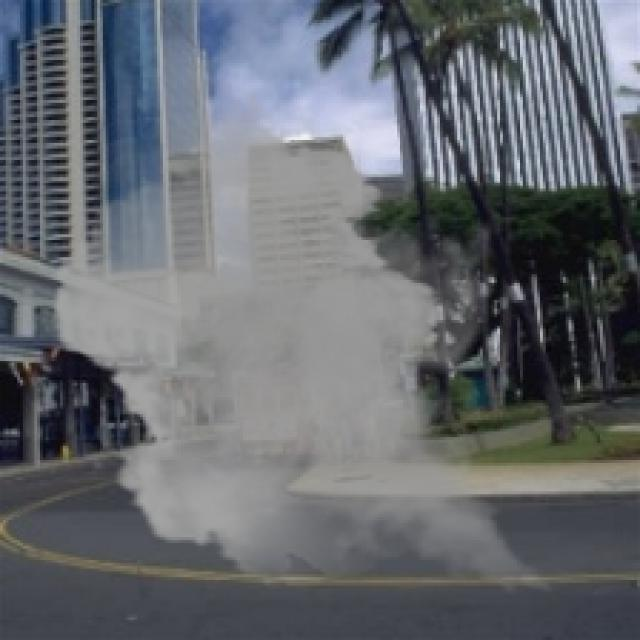Smoke: (37, 89, 580, 606)
